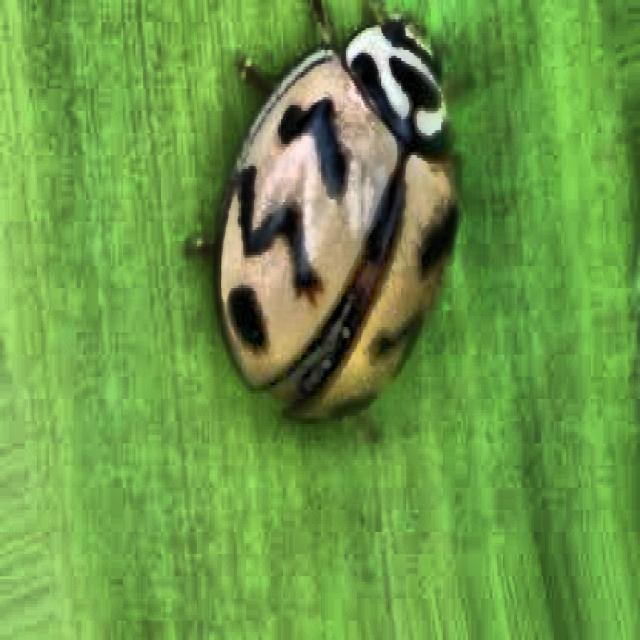Asian-Lady-beetle: (121, 0, 565, 546)
